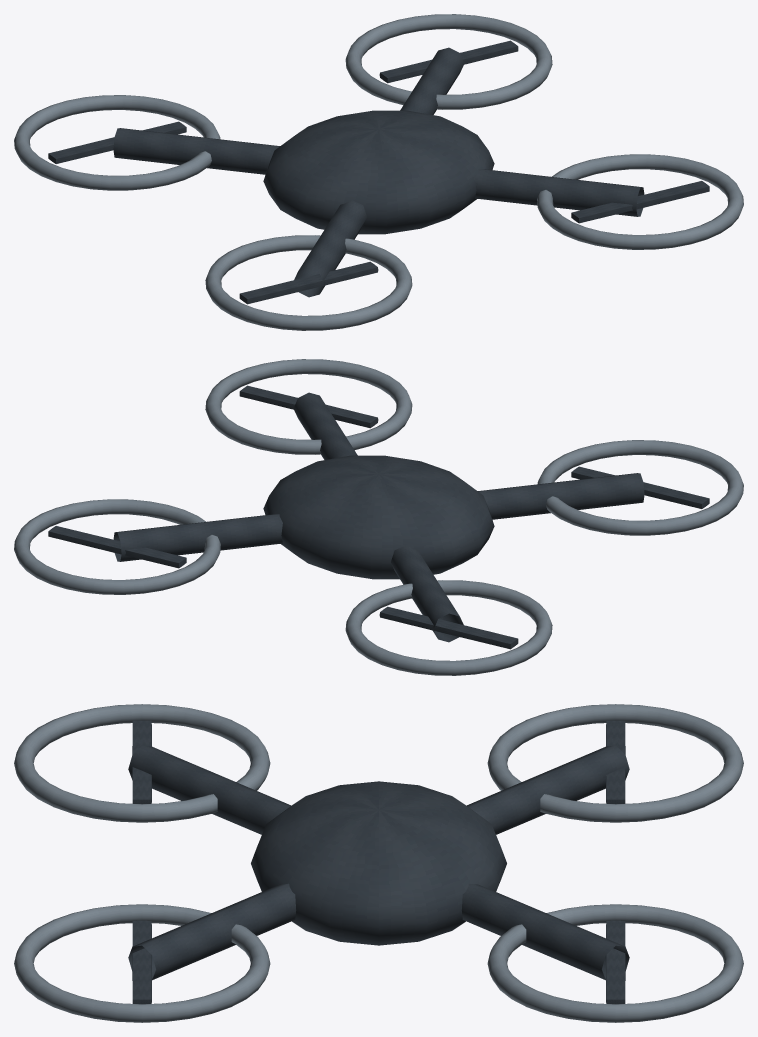
Rendered from combat-drone.lod1.glb.
3 renders of one model, top to bottom at view 1: azimuth 30°, elevation 25°; view 2: azimuth 150°, elevation 25°; view 3: azimuth 270°, elevation 25°, orthographic. The views are drawn at different scales.
Parts seen in each view (by area): view 1: iron.0, steel.2, steel.11, steel.8, steel.5, iron.1, iron.10, iron.4, iron.7, iron.6, iron.12, iron.9 (+1 smaller); view 2: iron.0, steel.5, steel.8, steel.11, steel.2, iron.4, iron.7, iron.1, iron.10, iron.3, iron.9, iron.12 (+1 smaller); view 3: iron.0, steel.2, steel.5, steel.8, steel.11, iron.7, iron.10, iron.1, iron.4, iron.9, iron.12, iron.3 (+1 smaller).
Part boxes in pixels (box(x1,y1,x2,y2)): iron.0: box(263, 110, 494, 234); steel.2: box(14, 95, 220, 190); steel.11: box(537, 154, 743, 249); steel.8: box(345, 14, 552, 109); steel.5: box(205, 235, 412, 330); iron.1: box(113, 128, 279, 174); iron.10: box(475, 169, 644, 216); iron.4: box(294, 200, 366, 297); iron.7: box(400, 47, 464, 114); iron.6: box(239, 261, 378, 304); iron.12: box(571, 181, 709, 223); iron.9: box(379, 40, 518, 83); iron.0: box(263, 455, 494, 579); steel.5: box(537, 440, 743, 535); steel.8: box(14, 499, 220, 594); steel.11: box(205, 359, 412, 454); steel.2: box(345, 580, 552, 675); iron.4: box(478, 473, 644, 519); iron.7: box(113, 514, 282, 561); iron.1: box(391, 545, 463, 642); iron.10: box(293, 392, 357, 459); iron.3: box(379, 606, 518, 649); iron.9: box(48, 526, 186, 568); iron.12: box(239, 385, 378, 428); iron.0: box(251, 781, 506, 945); steel.2: box(487, 704, 743, 822); steel.5: box(14, 704, 270, 822); steel.8: box(487, 904, 743, 1022); steel.11: box(14, 904, 270, 1022); iron.7: box(461, 883, 629, 980); iron.10: box(128, 883, 296, 980); iron.1: box(466, 745, 629, 834); iron.4: box(128, 745, 291, 834); iron.9: box(606, 920, 625, 1004); iron.12: box(132, 920, 151, 1004); iron.3: box(606, 720, 625, 804).
Size of the model in its own units: 0.74 by 0.12 by 0.74.
2 materials, 2 textured.
